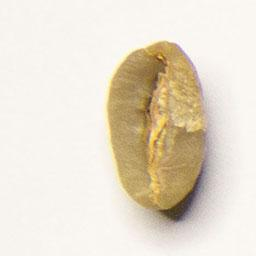longberry: (103, 37, 210, 215)
